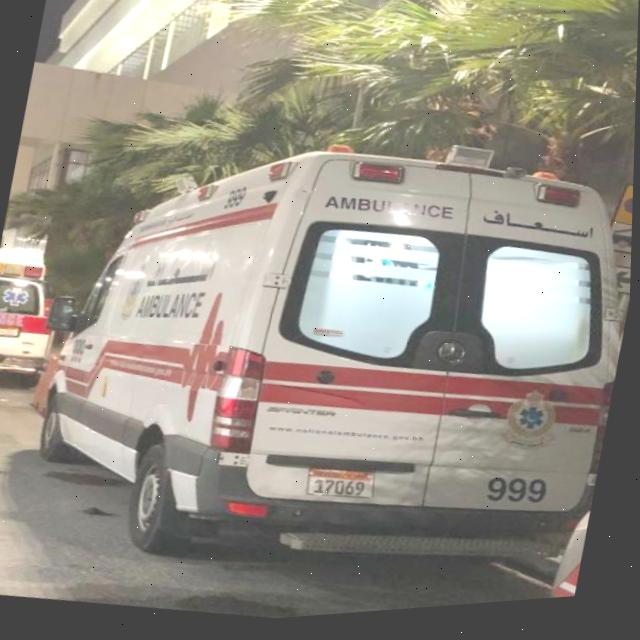emergency: (0, 73, 637, 633), (0, 233, 73, 400)
